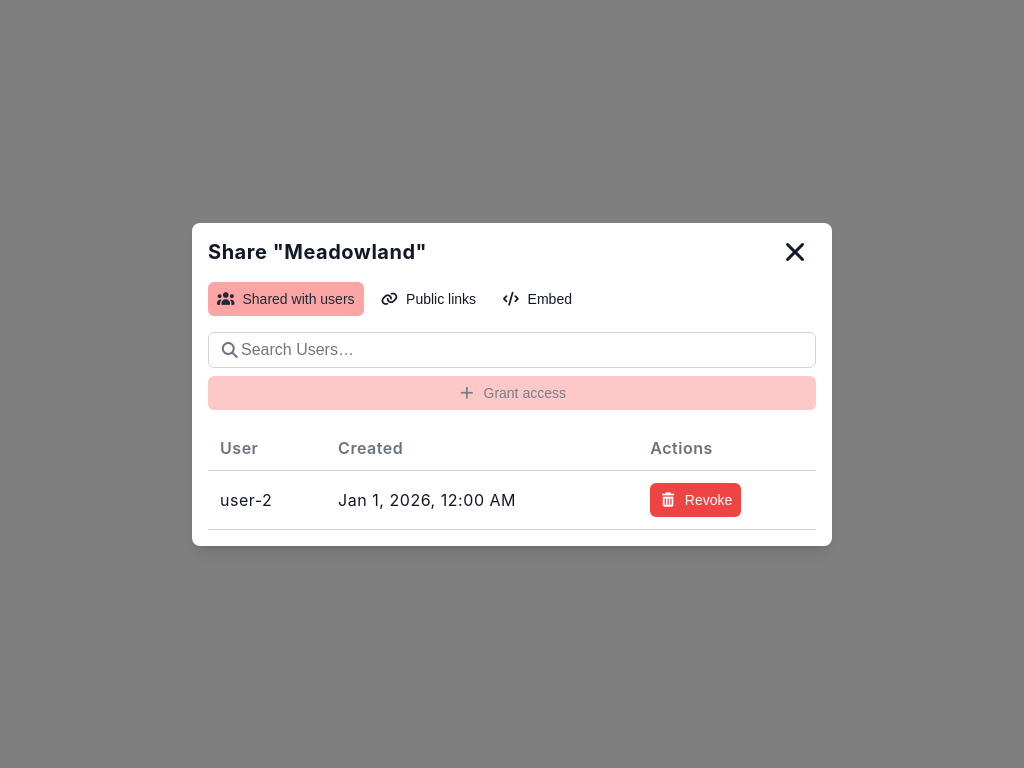
ShareDialog › surfaces a grant revoke error inline
The image size is (1024, 768).
Click the button "Revoke": (696, 500) [650,482,741,516]
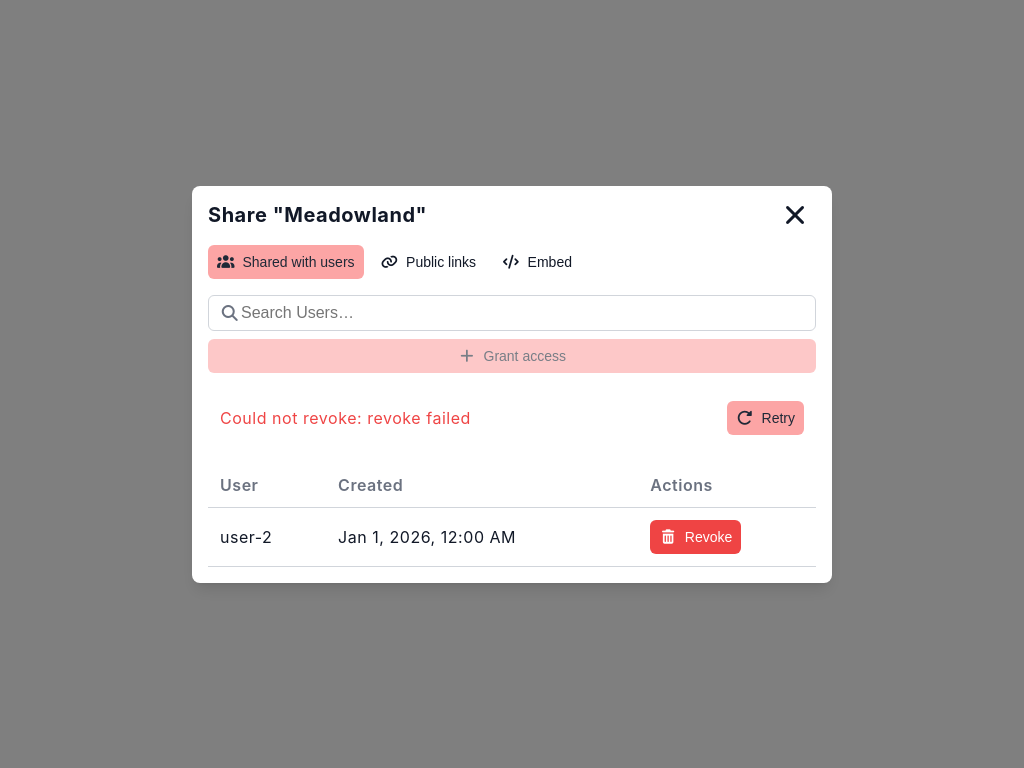
Now the text "revoke failed" is shown, box [220,408,471,428]
